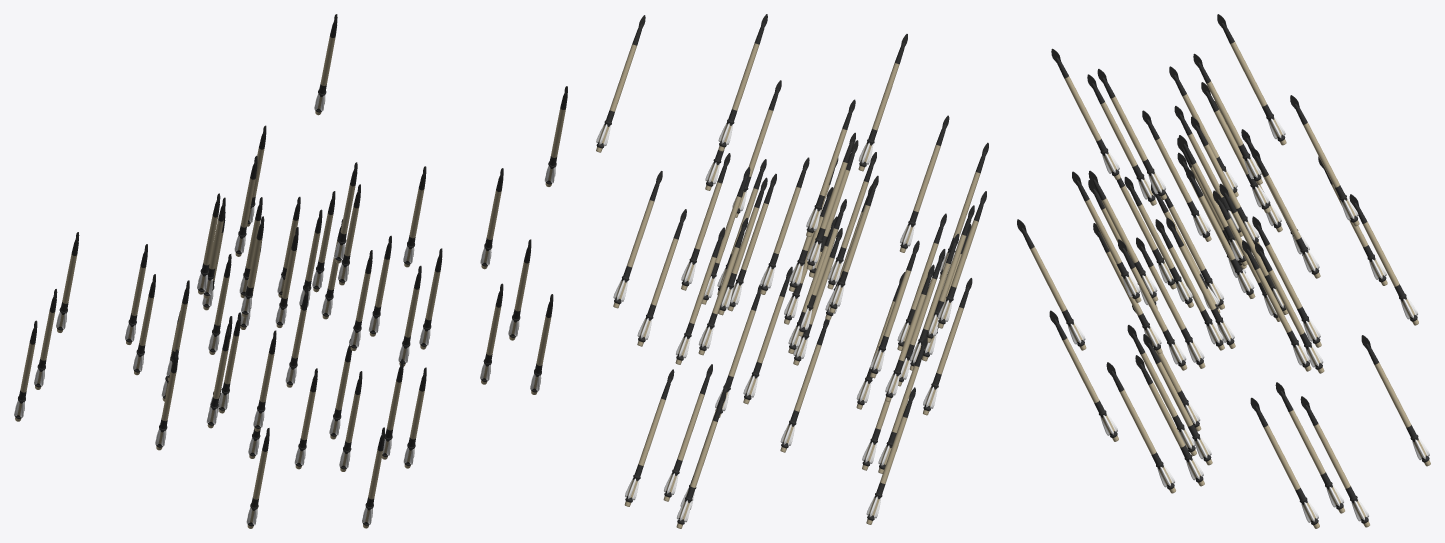
3 views of the same model, side by side, from view 1: azimuth 30°, elevation 25°; view 2: azimuth 150°, elevation 25°; view 3: azimuth 270°, elevation 25° (orthographic). The views are drawn at different scales.
Visible parts, largest first — view 1: D3; view 2: D3; view 3: D3.
Boxes of the visible parts, <box> form: D3: <box>14,14,567,528</box>; D3: <box>596,14,988,528</box>; D3: <box>1017,14,1430,528</box>.
Size of the model in its own units: 1.15 by 1.3 by 0.9971.
